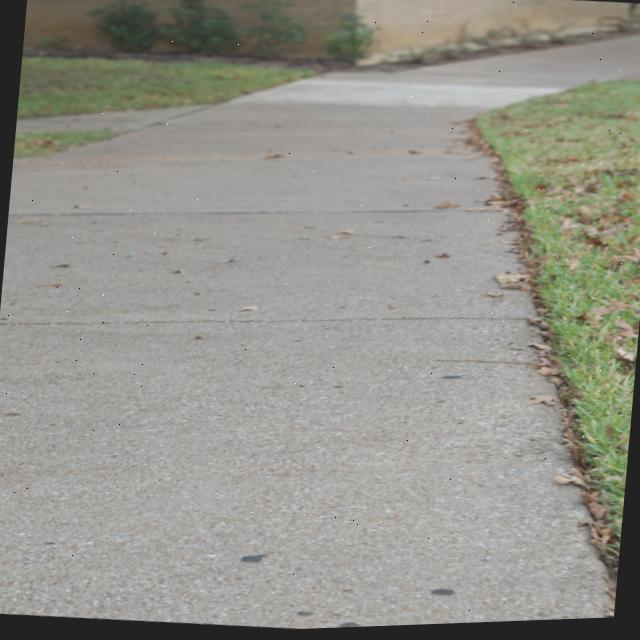Sidewalk: (0, 39, 640, 631)
